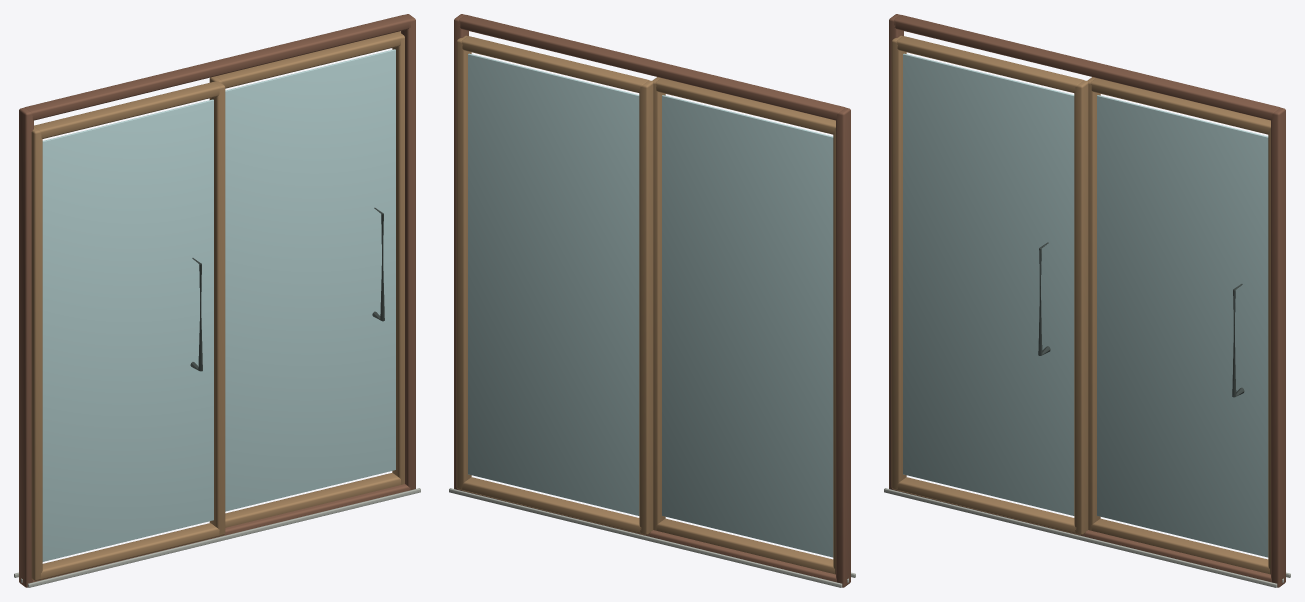
The model's file is door-patio-glide.glb.
3 views of the same model, side by side, from view 1: azimuth 30°, elevation 25°; view 2: azimuth 150°, elevation 25°; view 3: azimuth 330°, elevation 25° (orthographic).
Parts seen in each view (by area): view 1: sliding_leaf_0, sliding_leaf_1, catalog_surface_RealismUV; view 2: sliding_leaf_1, sliding_leaf_0, catalog_surface_RealismUV; view 3: sliding_leaf_0, sliding_leaf_1, catalog_surface_RealismUV.
Boxes of the visible parts, box(x1,y1,x2,y2) form: sliding_leaf_0: box(31, 81, 225, 580); sliding_leaf_1: box(209, 31, 404, 527); catalog_surface_RealismUV: box(14, 14, 420, 587); sliding_leaf_1: box(456, 35, 653, 534); sliding_leaf_0: box(652, 77, 835, 574); catalog_surface_RealismUV: box(449, 14, 855, 587); sliding_leaf_0: box(891, 35, 1088, 534); sliding_leaf_1: box(1087, 77, 1270, 574); catalog_surface_RealismUV: box(884, 14, 1290, 587).
Bounding box in the file's own units: 1.9 × 2.2 × 0.2.
